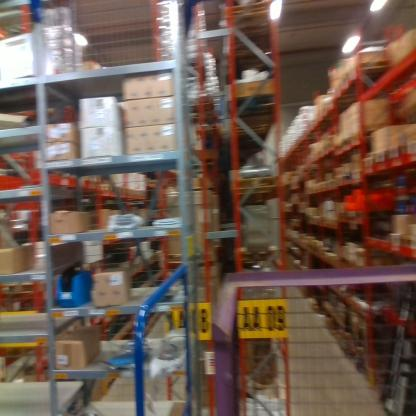pallet: (224, 3, 282, 31), (231, 174, 280, 203)
stillage: (213, 253, 412, 410)
